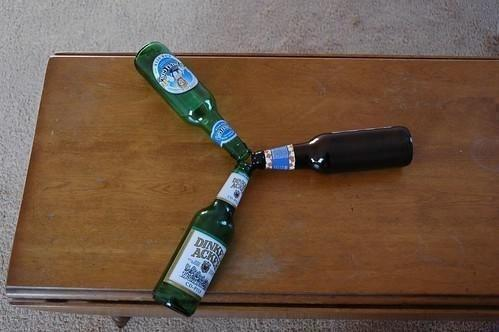bottle-glass: (148, 163, 254, 320), (132, 39, 250, 163), (252, 126, 418, 173)
